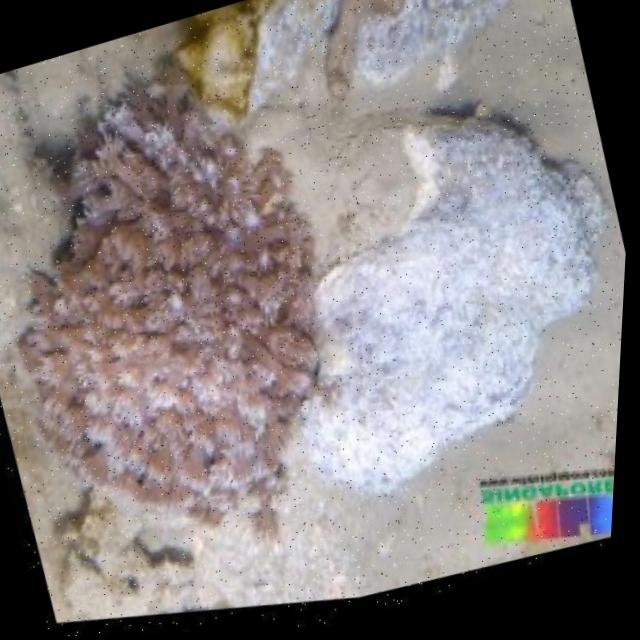Bleached Coral: (174, 12, 639, 591)
